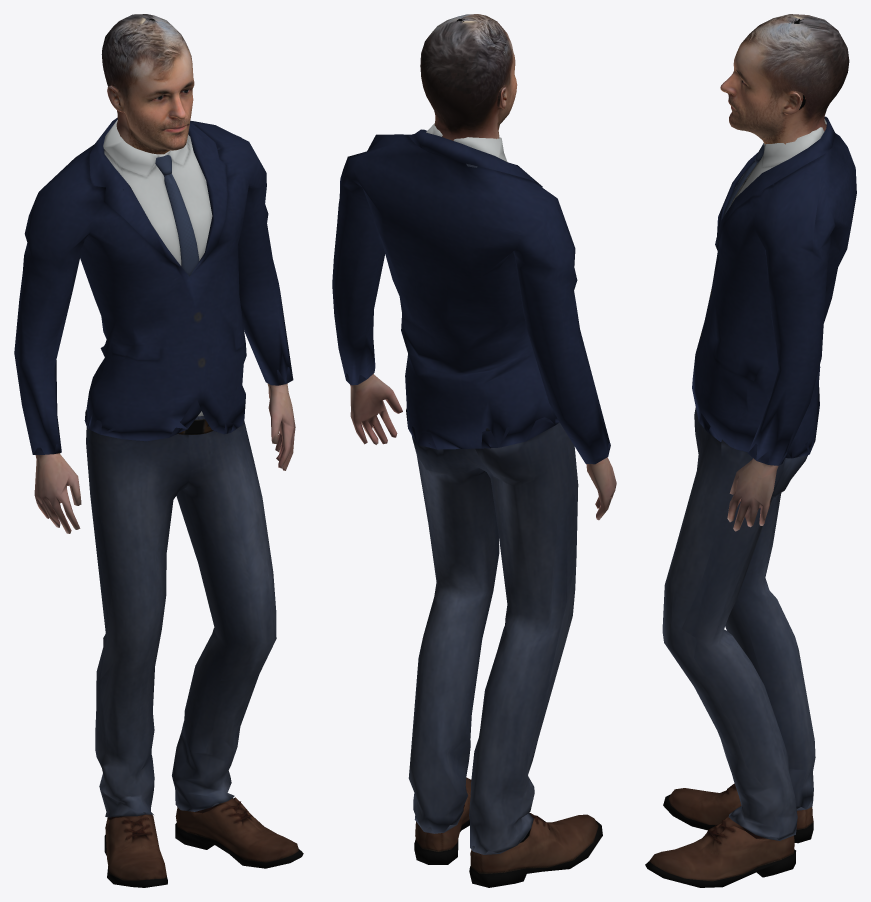
The model's file is bvr_avatar_ios.glb.
3 views of the same model, side by side, from view 1: azimuth 30°, elevation 25°; view 2: azimuth 150°, elevation 25°; view 3: azimuth 270°, elevation 25° (orthographic). The views are drawn at different scales.
Visible parts, largest first — view 1: Ch33_Suit.001, Ch33_Pants.001, FBHead.001, Ch33_Shoes.001, Ch33_Shirt.001, Ch33_Body, Ch33_Tie.001; view 2: Ch33_Suit.001, Ch33_Pants.001, FBHead.001, Ch33_Shoes.001, Ch33_Body, Ch33_Shirt.001; view 3: Ch33_Suit.001, Ch33_Pants.001, FBHead.001, Ch33_Shoes.001, Ch33_Body, Ch33_Shirt.001.
Boxes of the visible parts, box(x1,y1,x2,y2) form: Ch33_Suit.001: box(14, 117, 293, 454); Ch33_Pants.001: box(86, 416, 276, 817); FBHead.001: box(101, 14, 194, 154); Ch33_Shoes.001: box(104, 797, 303, 887); Ch33_Shirt.001: box(103, 120, 212, 416); Ch33_Body: box(34, 383, 295, 533); Ch33_Tie.001: box(155, 155, 199, 276); Ch33_Suit.001: box(332, 129, 610, 464); Ch33_Pants.001: box(408, 422, 578, 854); FBHead.001: box(420, 14, 517, 140); Ch33_Shoes.001: box(414, 777, 602, 887); Ch33_Body: box(350, 373, 616, 520); Ch33_Shirt.001: box(426, 123, 507, 167); Ch33_Suit.001: box(692, 116, 856, 465); Ch33_Pants.001: box(662, 407, 815, 840); FBHead.001: box(720, 14, 849, 144); Ch33_Shoes.001: box(645, 783, 813, 887); Ch33_Body: box(727, 458, 778, 531); Ch33_Shirt.001: box(729, 119, 826, 207).
Size of the model in its own units: 0.5606 by 1.72 by 0.4.
Materials: 2 (2 with a texture image).
